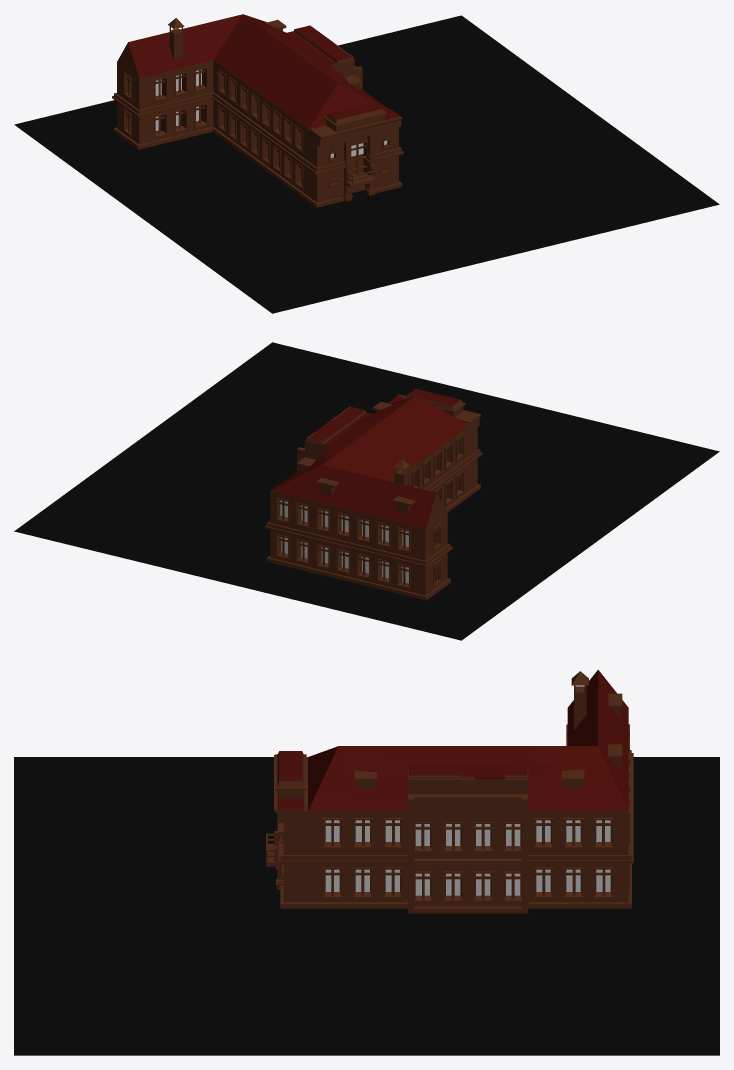
File: ДомикГейне.obj
3 renders of one model, top to bottom at view 1: azimuth 30°, elevation 25°; view 2: azimuth 150°, elevation 25°; view 3: azimuth 270°, elevation 25°, orthographic. The views are drawn at different scales.
Visible parts, largest first — view 1: Plane, SmartSeparate_80; view 2: Plane, SmartSeparate_80; view 3: Plane, SmartSeparate_80.
Part boxes in pixels (x1,y1,x2,y2): Plane: (14, 15, 719, 313); SmartSeparate_80: (112, 14, 403, 207); Plane: (14, 342, 719, 640); SmartSeparate_80: (264, 389, 482, 600); Plane: (14, 757, 719, 1055); SmartSeparate_80: (274, 670, 633, 913).
Bounding box in the file's own units: 41.34 × 11.13 × 41.34.
